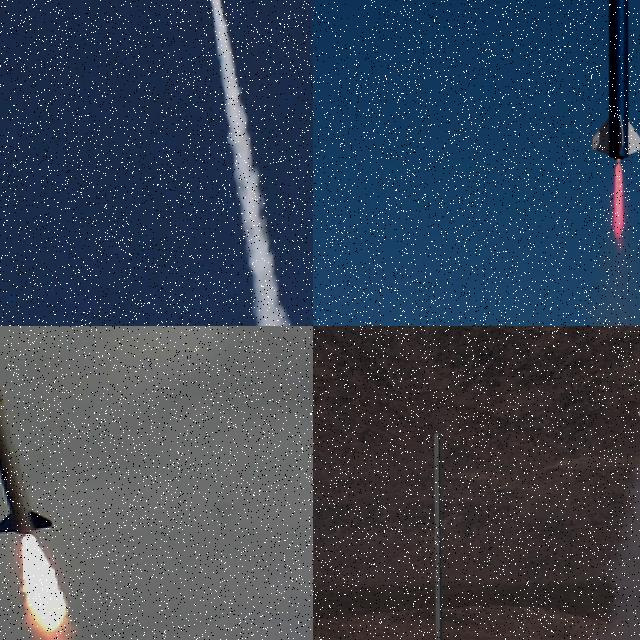Rocket: (0, 326, 53, 534), (590, 0, 640, 160)
